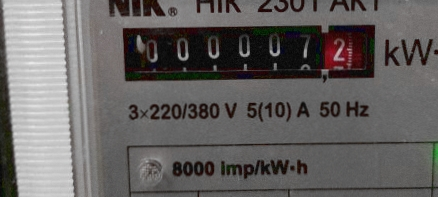0: (173, 34, 191, 62), (142, 36, 160, 63), (204, 32, 222, 59), (266, 30, 282, 58), (236, 31, 251, 58)
2: (330, 34, 347, 63)
7: (296, 31, 312, 60)
screen: (113, 14, 387, 87)
